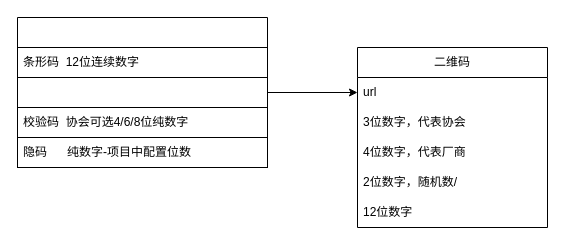
Some shapes in this 565 by 245 pixel diagram are drawn without their labels. The box of each missing label's shape, as (x1, y1, x2, y2) in pixels:
二维码 url + xxx + xxxx + xx + 12位纯数字: (16, 76, 268, 108)
溯源码: (16, 16, 268, 168)
